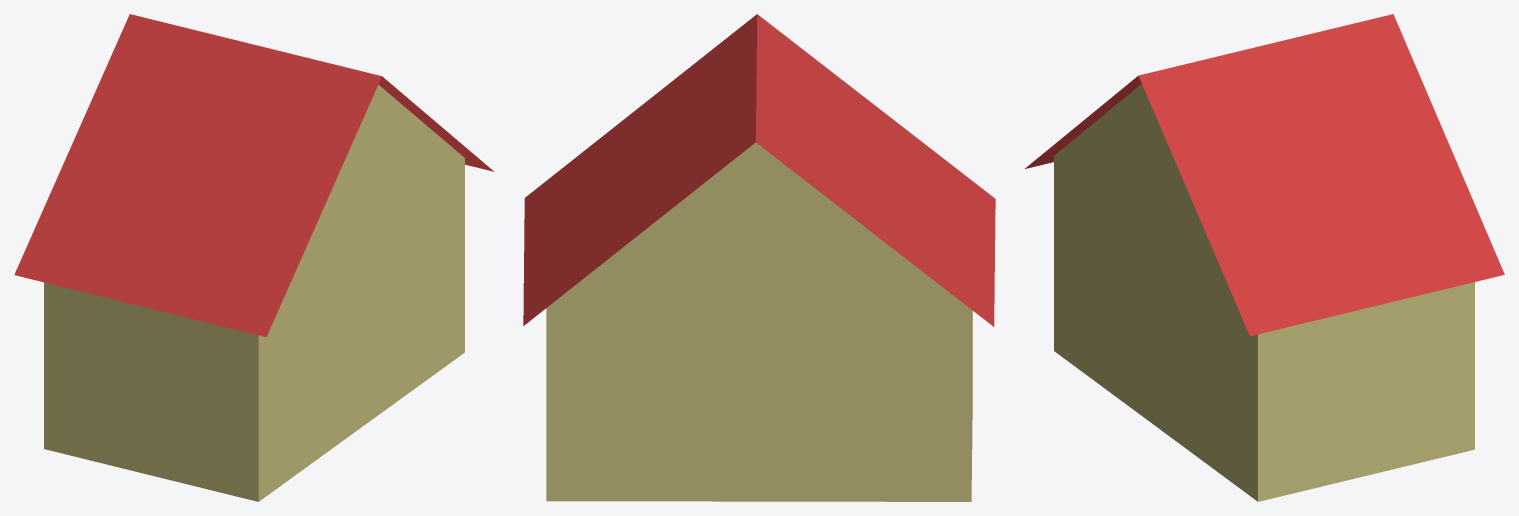
3 views of the same model, side by side, from view 1: azimuth 30°, elevation 25°; view 2: azimuth 150°, elevation 25°; view 3: azimuth 270°, elevation 25° (orthographic). The views are drawn at different scales.
Visible parts, largest first — view 1: group_5, group_3, group_4; view 2: group_5, group_3, group_4; view 3: group_5, group_3, group_4.
Boxes of the visible parts, x1,y1,x2,y2 form: group_5: (44, 85, 464, 501); group_3: (44, 14, 494, 336); group_4: (14, 15, 492, 336); group_5: (546, 142, 972, 501); group_3: (523, 14, 995, 325); group_4: (525, 14, 995, 326); group_5: (1054, 84, 1474, 501); group_3: (1025, 16, 1504, 336); group_4: (1119, 14, 1429, 335).
Size of the model in its own units: 18.46 by 16.41 by 13.43.
